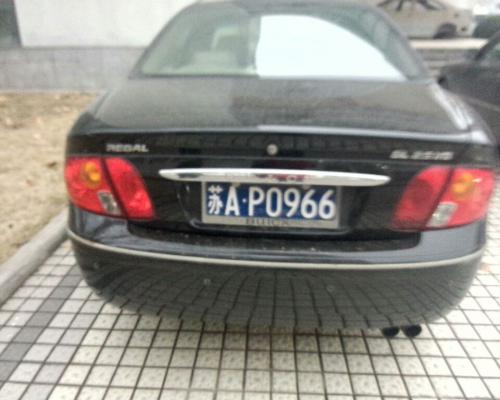Carplate: (199, 178, 343, 231)
